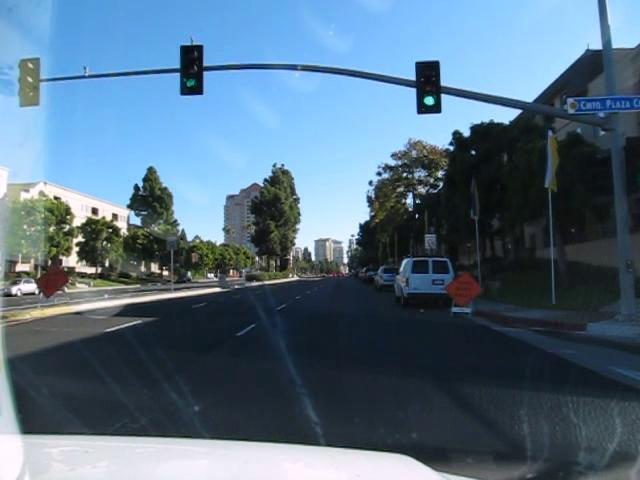speedLimit35: (423, 233, 437, 250)
